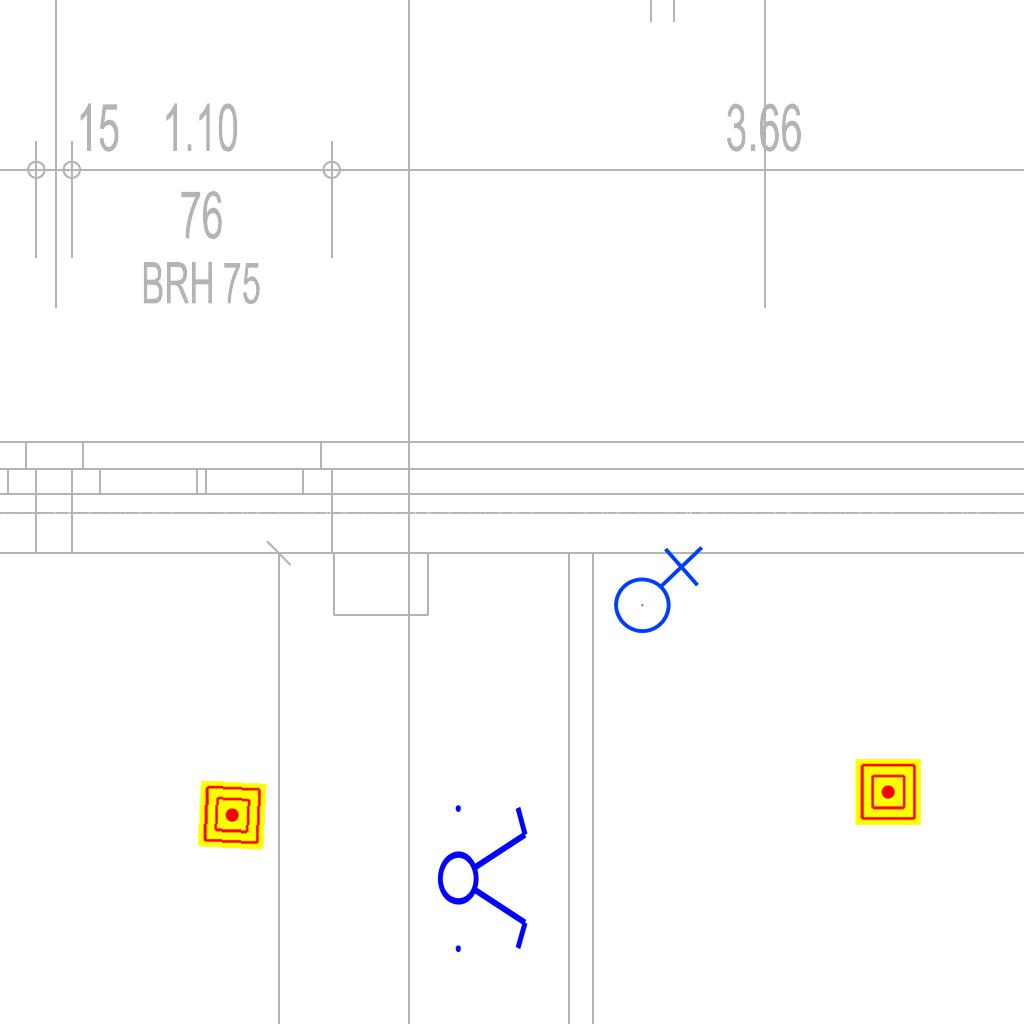Elektroanschluss_allgemein_230V_Geraeteanschlussdose_230V: (605, 541, 704, 635)
NAM-Nichtautomatischer_Melder: (197, 780, 267, 850), (855, 759, 921, 825)
Serienschalter: (436, 793, 532, 961)
